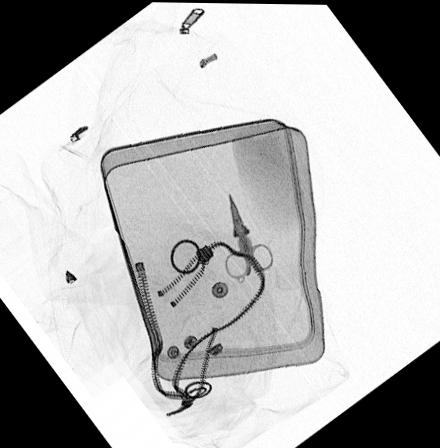Scissors: (222, 192, 274, 284)
